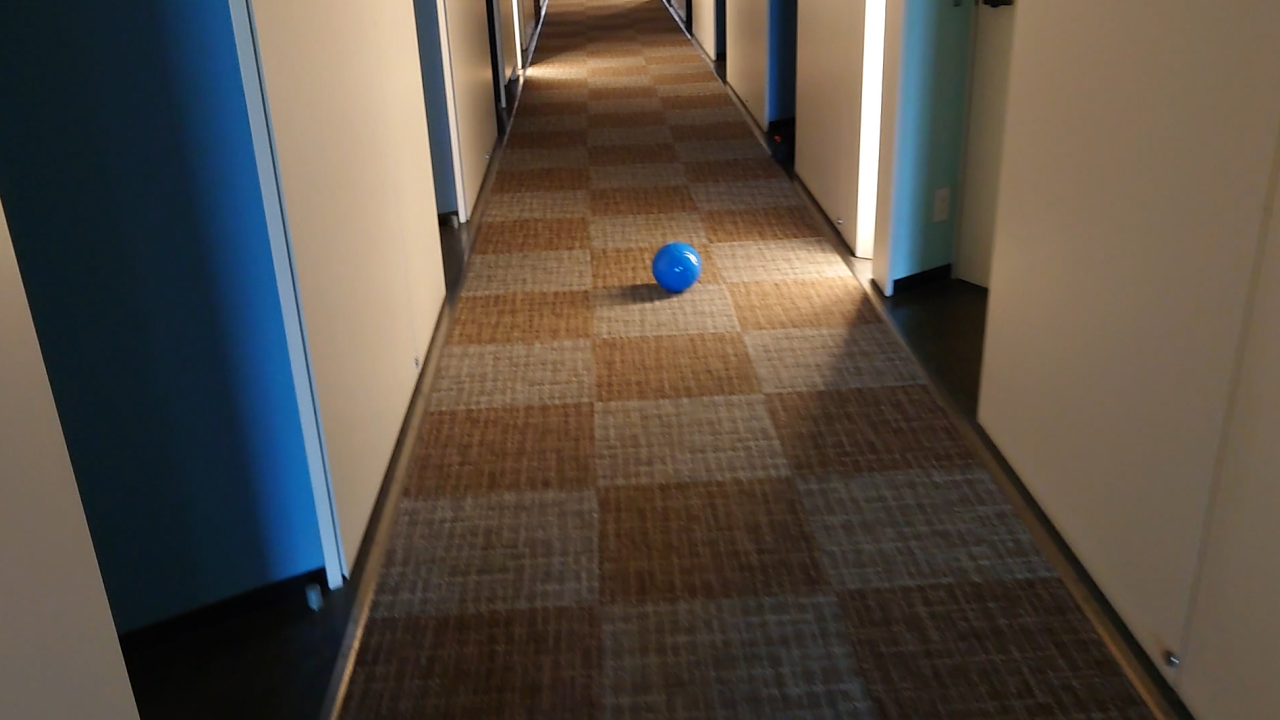BlueBall: (654, 238, 699, 293)
